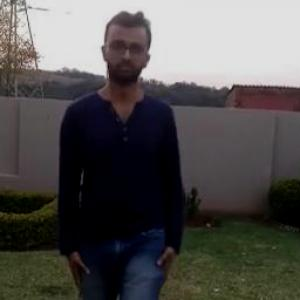follow: (50, 3, 191, 299)
